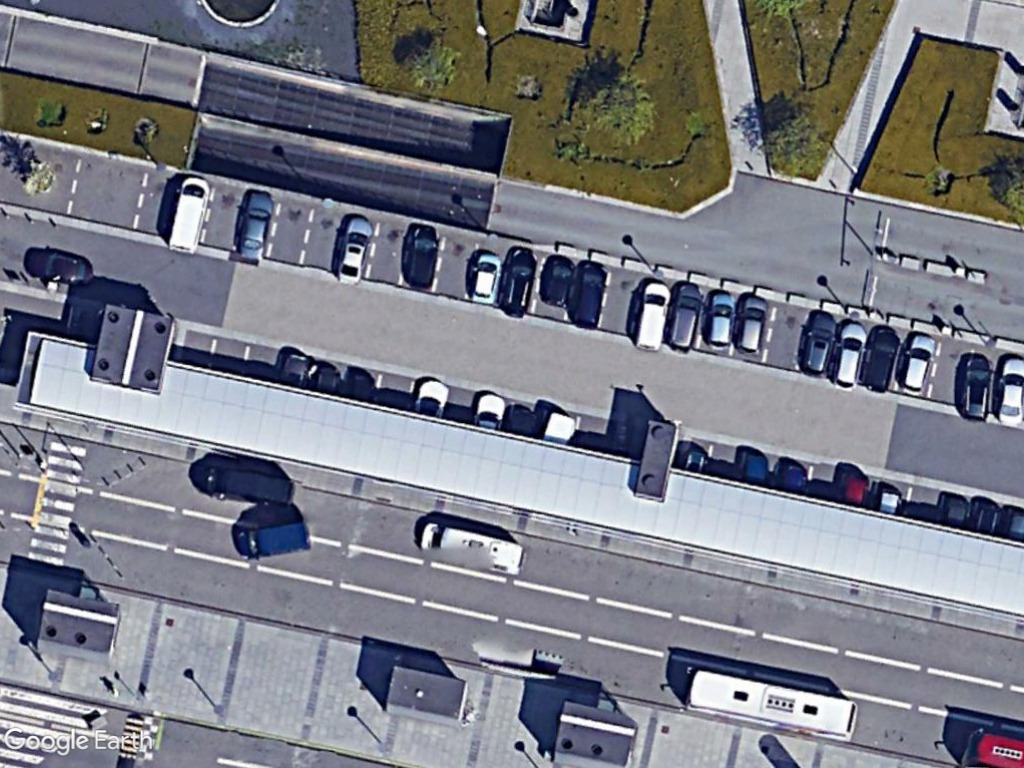bus: (678, 664, 864, 747)
car: (18, 243, 101, 292), (494, 243, 542, 322), (232, 186, 278, 266), (329, 209, 375, 289), (824, 315, 870, 394), (857, 326, 904, 399), (401, 217, 446, 293), (665, 279, 709, 356), (955, 349, 999, 426), (566, 259, 610, 333), (897, 329, 942, 401), (727, 292, 773, 362), (797, 306, 841, 379), (701, 288, 742, 359), (466, 246, 507, 312)
van: (415, 514, 534, 581), (190, 458, 299, 512), (163, 167, 215, 262), (230, 515, 319, 563), (628, 276, 675, 355)
